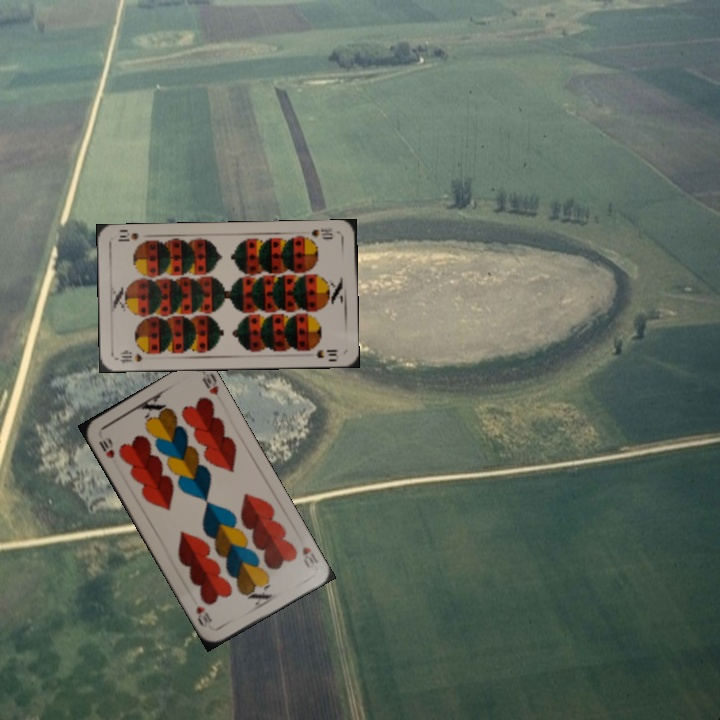H10: (298, 542, 321, 570), (94, 436, 117, 461)
S10: (114, 348, 146, 366), (308, 223, 336, 242)
